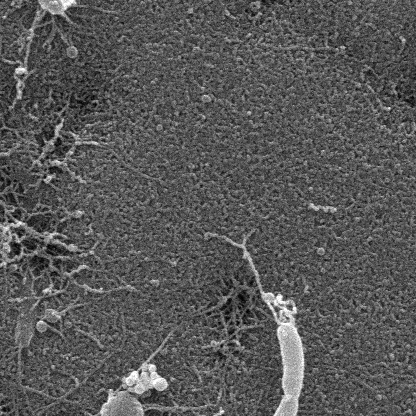cell2surface: (235, 234, 289, 321), (0, 193, 18, 234), (24, 414, 100, 416)
regular: (279, 327, 307, 397), (255, 395, 303, 416)
spheroplast: (96, 388, 146, 416)
